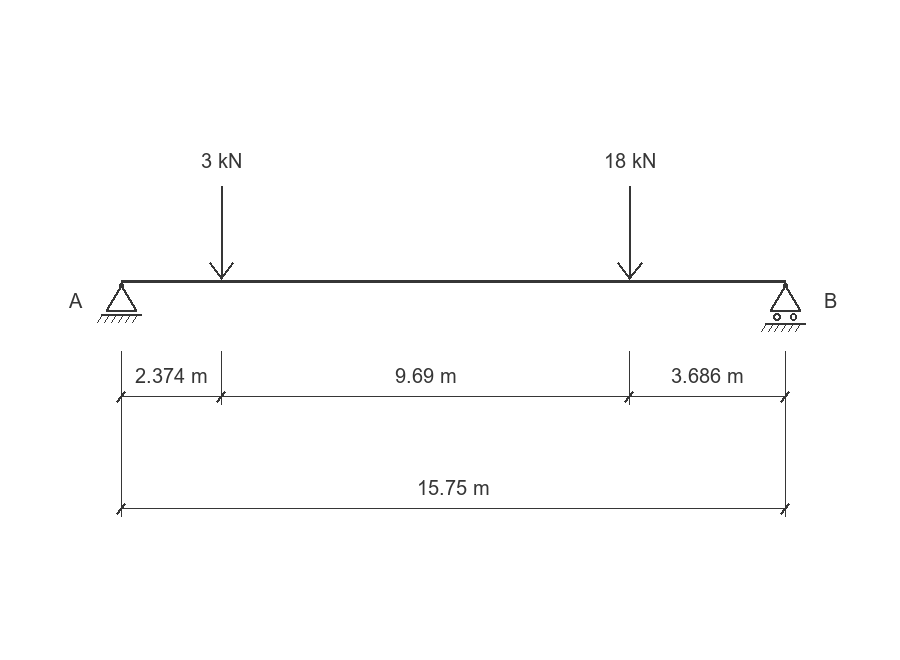pin_support: (97, 283, 142, 323)
point_load: (617, 186, 643, 280), (209, 186, 234, 280)
roller_support: (761, 283, 806, 332)
